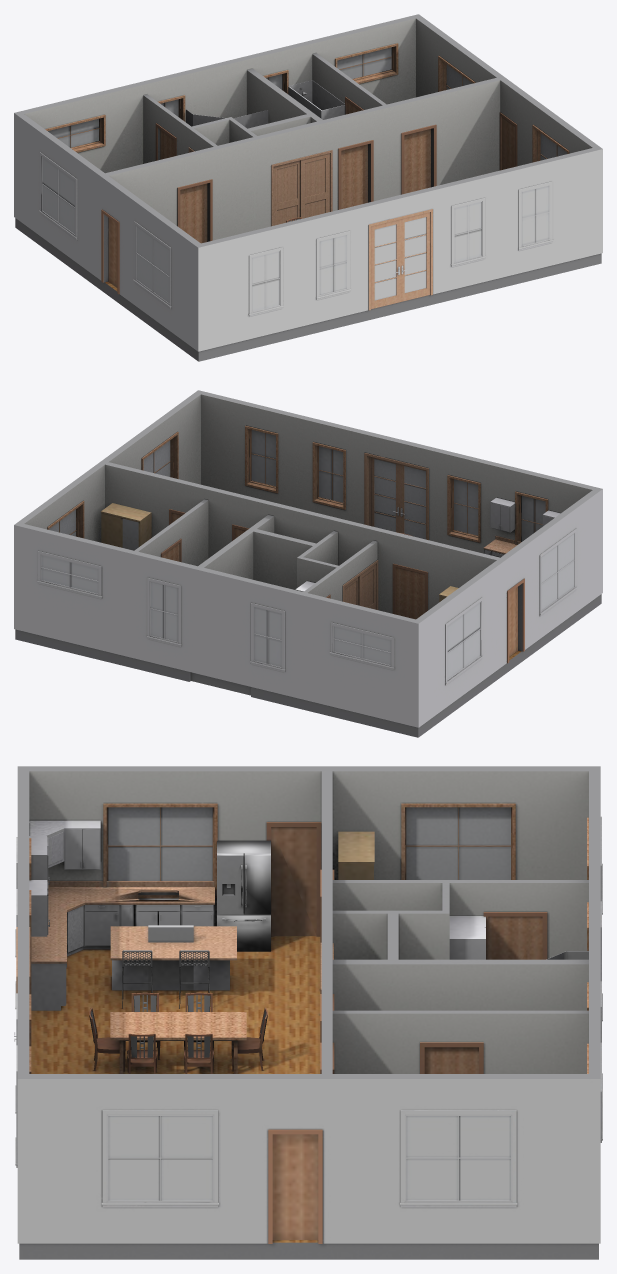
Rendered from smart-home-floor-plan.glb.
3 views of the same model, one above another, from view 1: azimuth 30°, elevation 25°; view 2: azimuth 150°, elevation 25°; view 3: azimuth 270°, elevation 25° (orthographic). The views are drawn at different scales.
Parts seen in each view (by area): view 1: Object004_Object004_mtl_0, Object003_Object003_mtl_0, Object002_Object002_mtl_0 (×2), Object001_Object001_mtl_0; view 2: Object004_Object004_mtl_0, Object003_Object003_mtl_0, Object002_Object002_mtl_0 (×2), Object001_Object001_mtl_0; view 3: Object004_Object004_mtl_0, Object003_Object003_mtl_0, Object002_Object002_mtl_0 (×2), Object001_Object001_mtl_0.
Boxes of the visible parts, x1,y1,x2,y2 form: Object004_Object004_mtl_0: (14,14,602,351); Object003_Object003_mtl_0: (15,53,601,361); Object002_Object002_mtl_0 (×2): (41,46,557,313); Object001_Object001_mtl_0: (39,43,569,316); Object004_Object004_mtl_0: (14,390,602,727); Object003_Object003_mtl_0: (15,436,601,737); Object002_Object002_mtl_0 (×2): (40,429,574,695); Object001_Object001_mtl_0: (37,425,577,685); Object004_Object004_mtl_0: (17,766,600,1243); Object003_Object003_mtl_0: (14,807,598,1259); Object002_Object002_mtl_0 (×2): (29,807,588,1243); Object001_Object001_mtl_0: (15,803,602,1207).
Bounding box in the file's own units: 12.48 × 3.36 × 9.88.
Materials: 4 (4 with a texture image).
